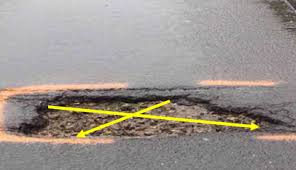pothole: (4, 85, 285, 138)
